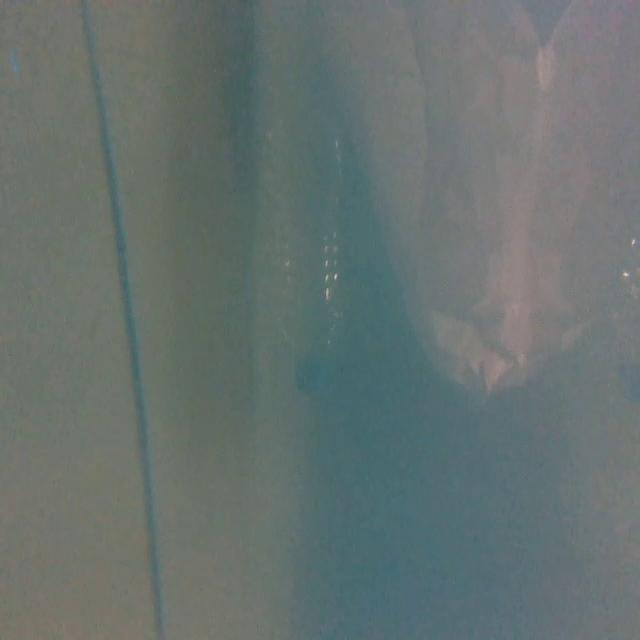plastic bags: (357, 0, 640, 388)
plastic bottle: (262, 105, 349, 395)
